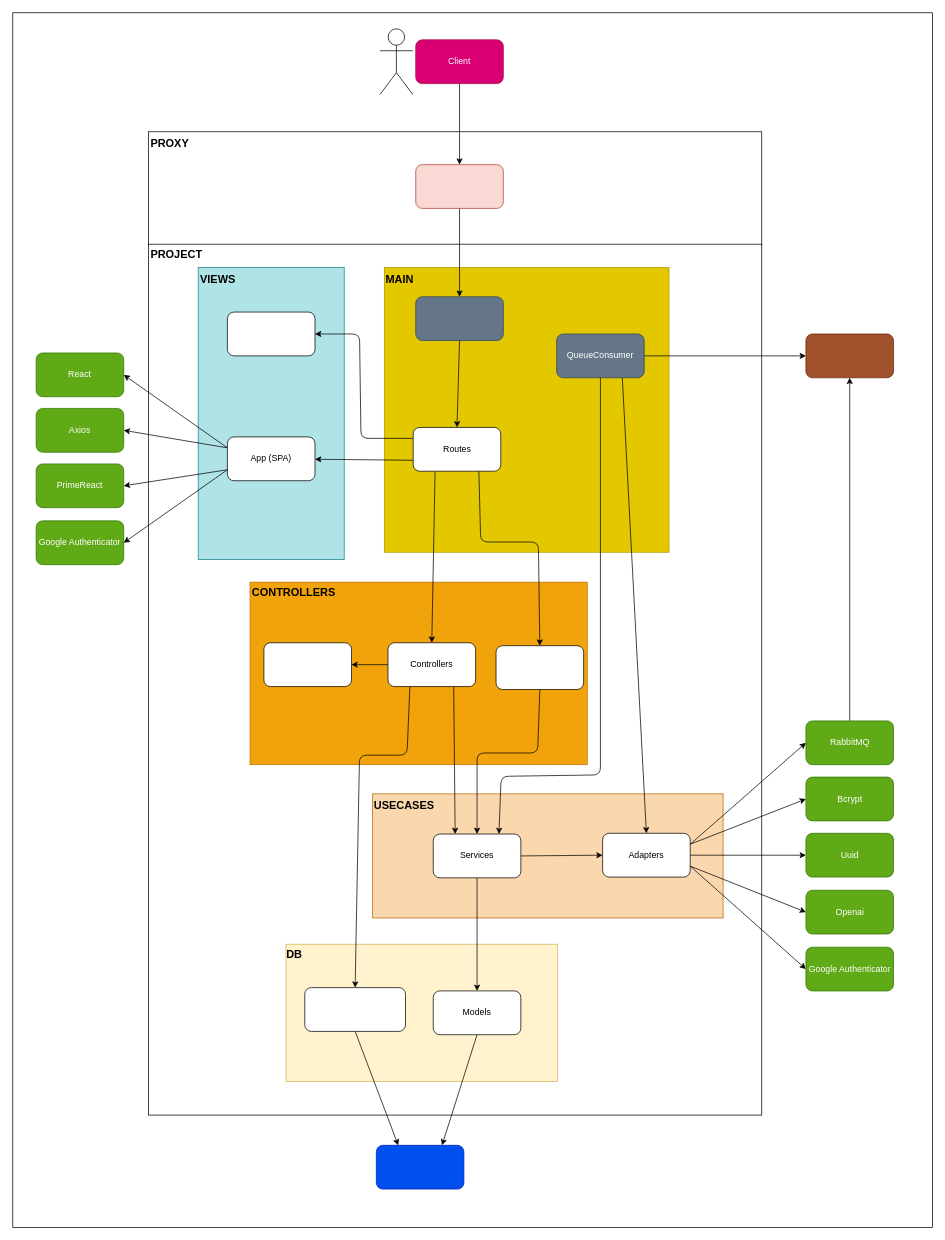
This 945x1240 diagram has some shape labels left out. Here are the shapes that lost their labels. From the top down, the centre of each, then its label:
At point 459,186: "Nginx".
At point 271,333: "Landing page".
At point 459,318: "Api".
At point 849,355: "RabbitMQ Service".
At point 307,664: "Validators".
At point 539,667: "Middlewares".
At point 355,1009: "TransactionController".
At point 420,1167: "Postgres".
